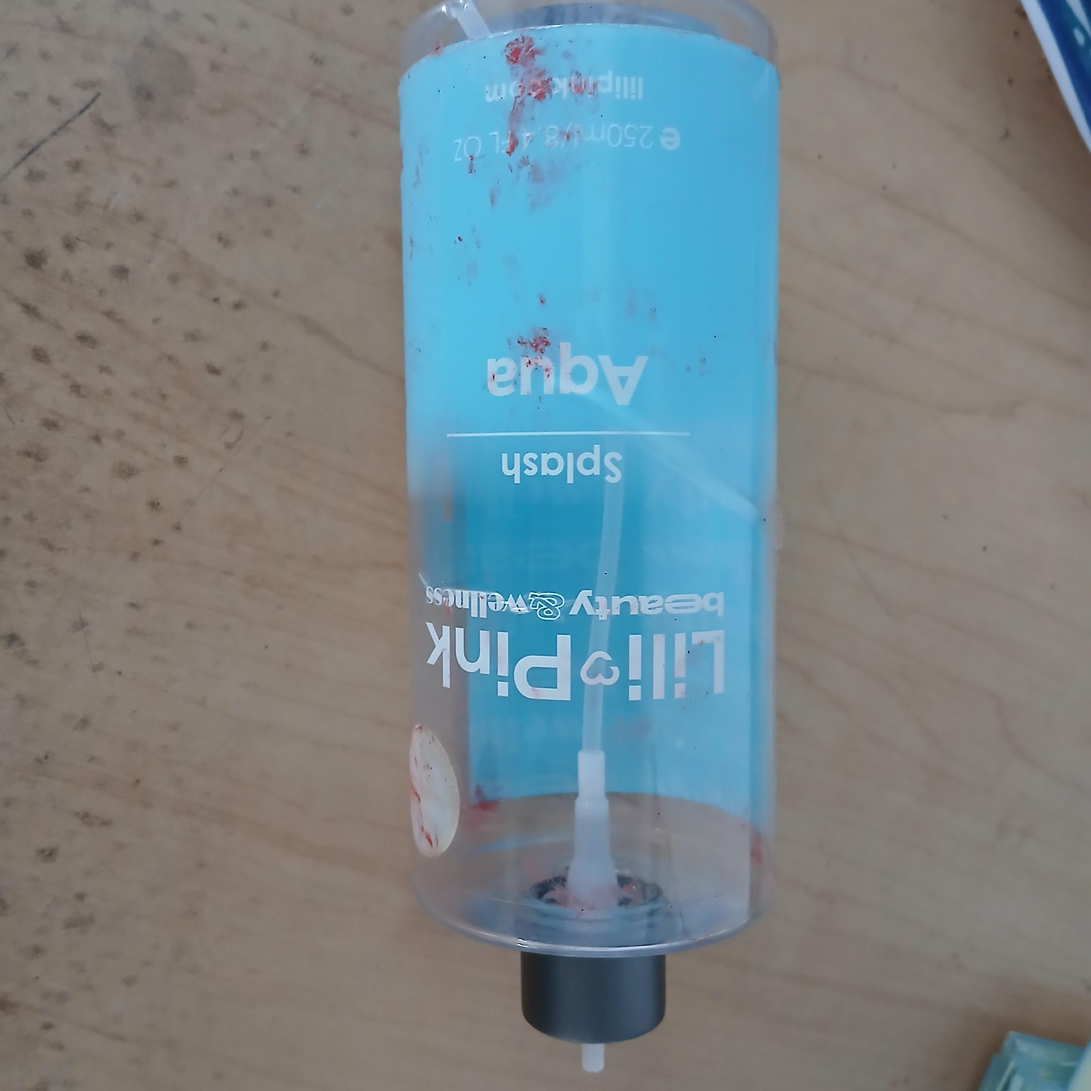Plastico: (394, 15, 782, 1044)
